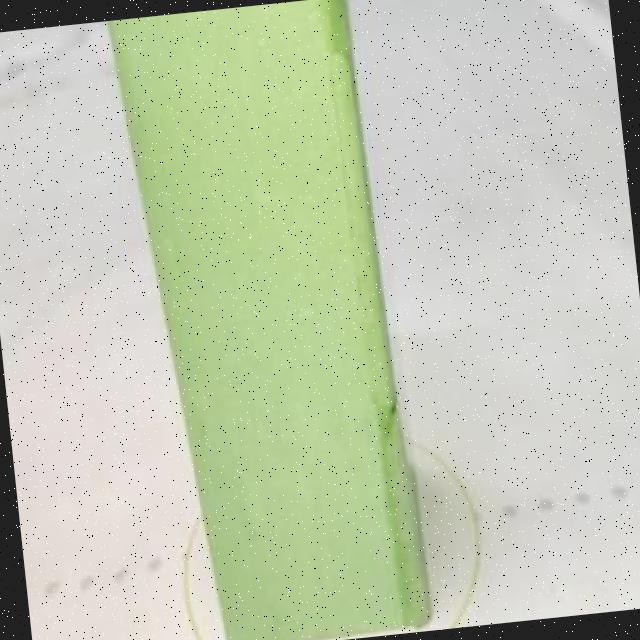greenbox: (92, 0, 439, 640)
